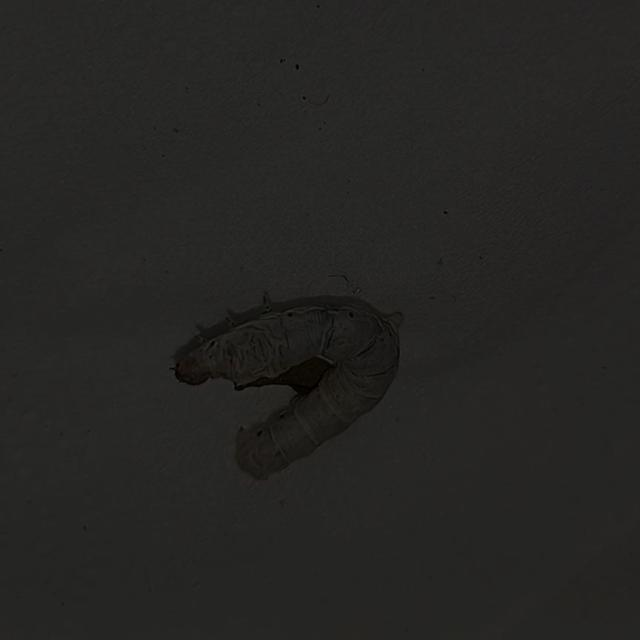Healthy: (153, 260, 453, 495)
